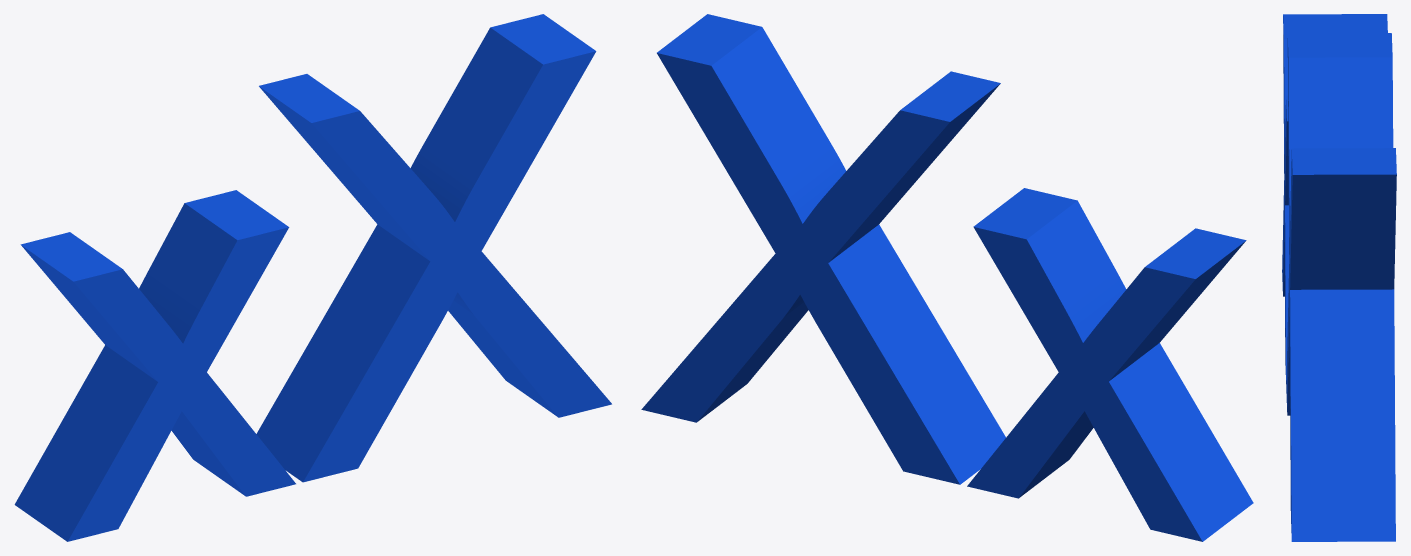
3 views of the same model, side by side, from view 1: azimuth 30°, elevation 25°; view 2: azimuth 150°, elevation 25°; view 3: azimuth 270°, elevation 25° (orthographic).
Parts seen in each view (by area): view 1: Mesh_0.027; view 2: Mesh_0.027; view 3: Mesh_0.027.
Boxes of the visible parts, left/top/right/bottom form: Mesh_0.027: left=14, top=14, right=611, bottom=541; Mesh_0.027: left=641, top=14, right=1253, bottom=541; Mesh_0.027: left=1282, top=14, right=1396, bottom=541.
Size of the model in its own units: 11.58 by 7.16 by 2.07.
